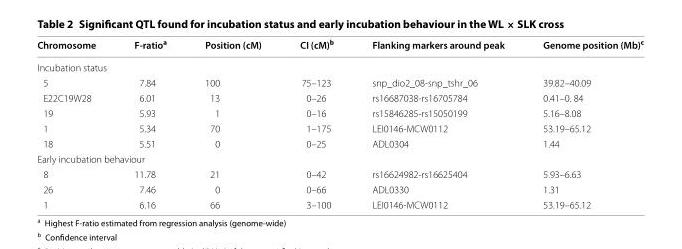table: (36, 36, 642, 210)
table column: (352, 36, 523, 210), (523, 36, 642, 210), (185, 36, 279, 210), (36, 36, 114, 210), (279, 36, 352, 210), (114, 36, 185, 210)
table column header: (36, 36, 642, 55)
table projected row header: (36, 55, 642, 74), (36, 150, 642, 166)
table row: (36, 36, 642, 55), (36, 55, 642, 74), (36, 74, 642, 90), (36, 150, 642, 166), (36, 90, 642, 105), (36, 105, 642, 120), (36, 120, 642, 135), (36, 135, 642, 150), (36, 166, 642, 181), (36, 181, 642, 196), (36, 196, 642, 210)
